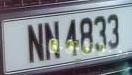3: (106, 12, 122, 54), (94, 14, 109, 54)
4: (62, 15, 79, 60)
8: (78, 14, 95, 57)
N: (43, 16, 65, 63), (24, 20, 46, 65)
